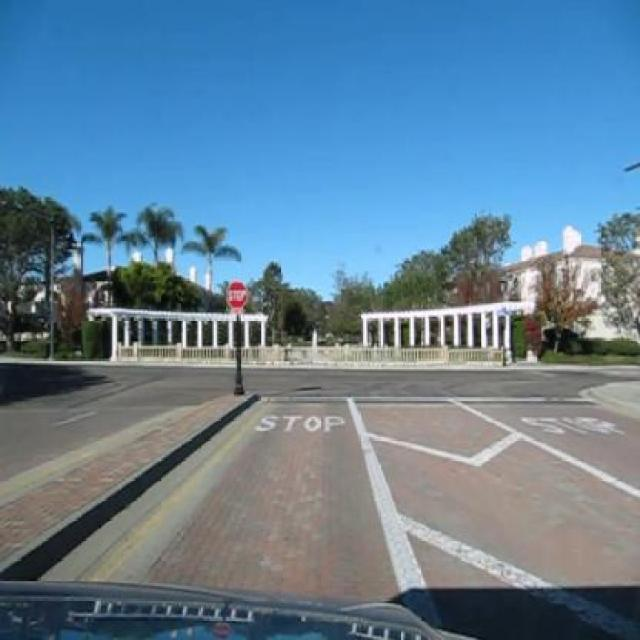stop: (225, 278, 248, 311)
